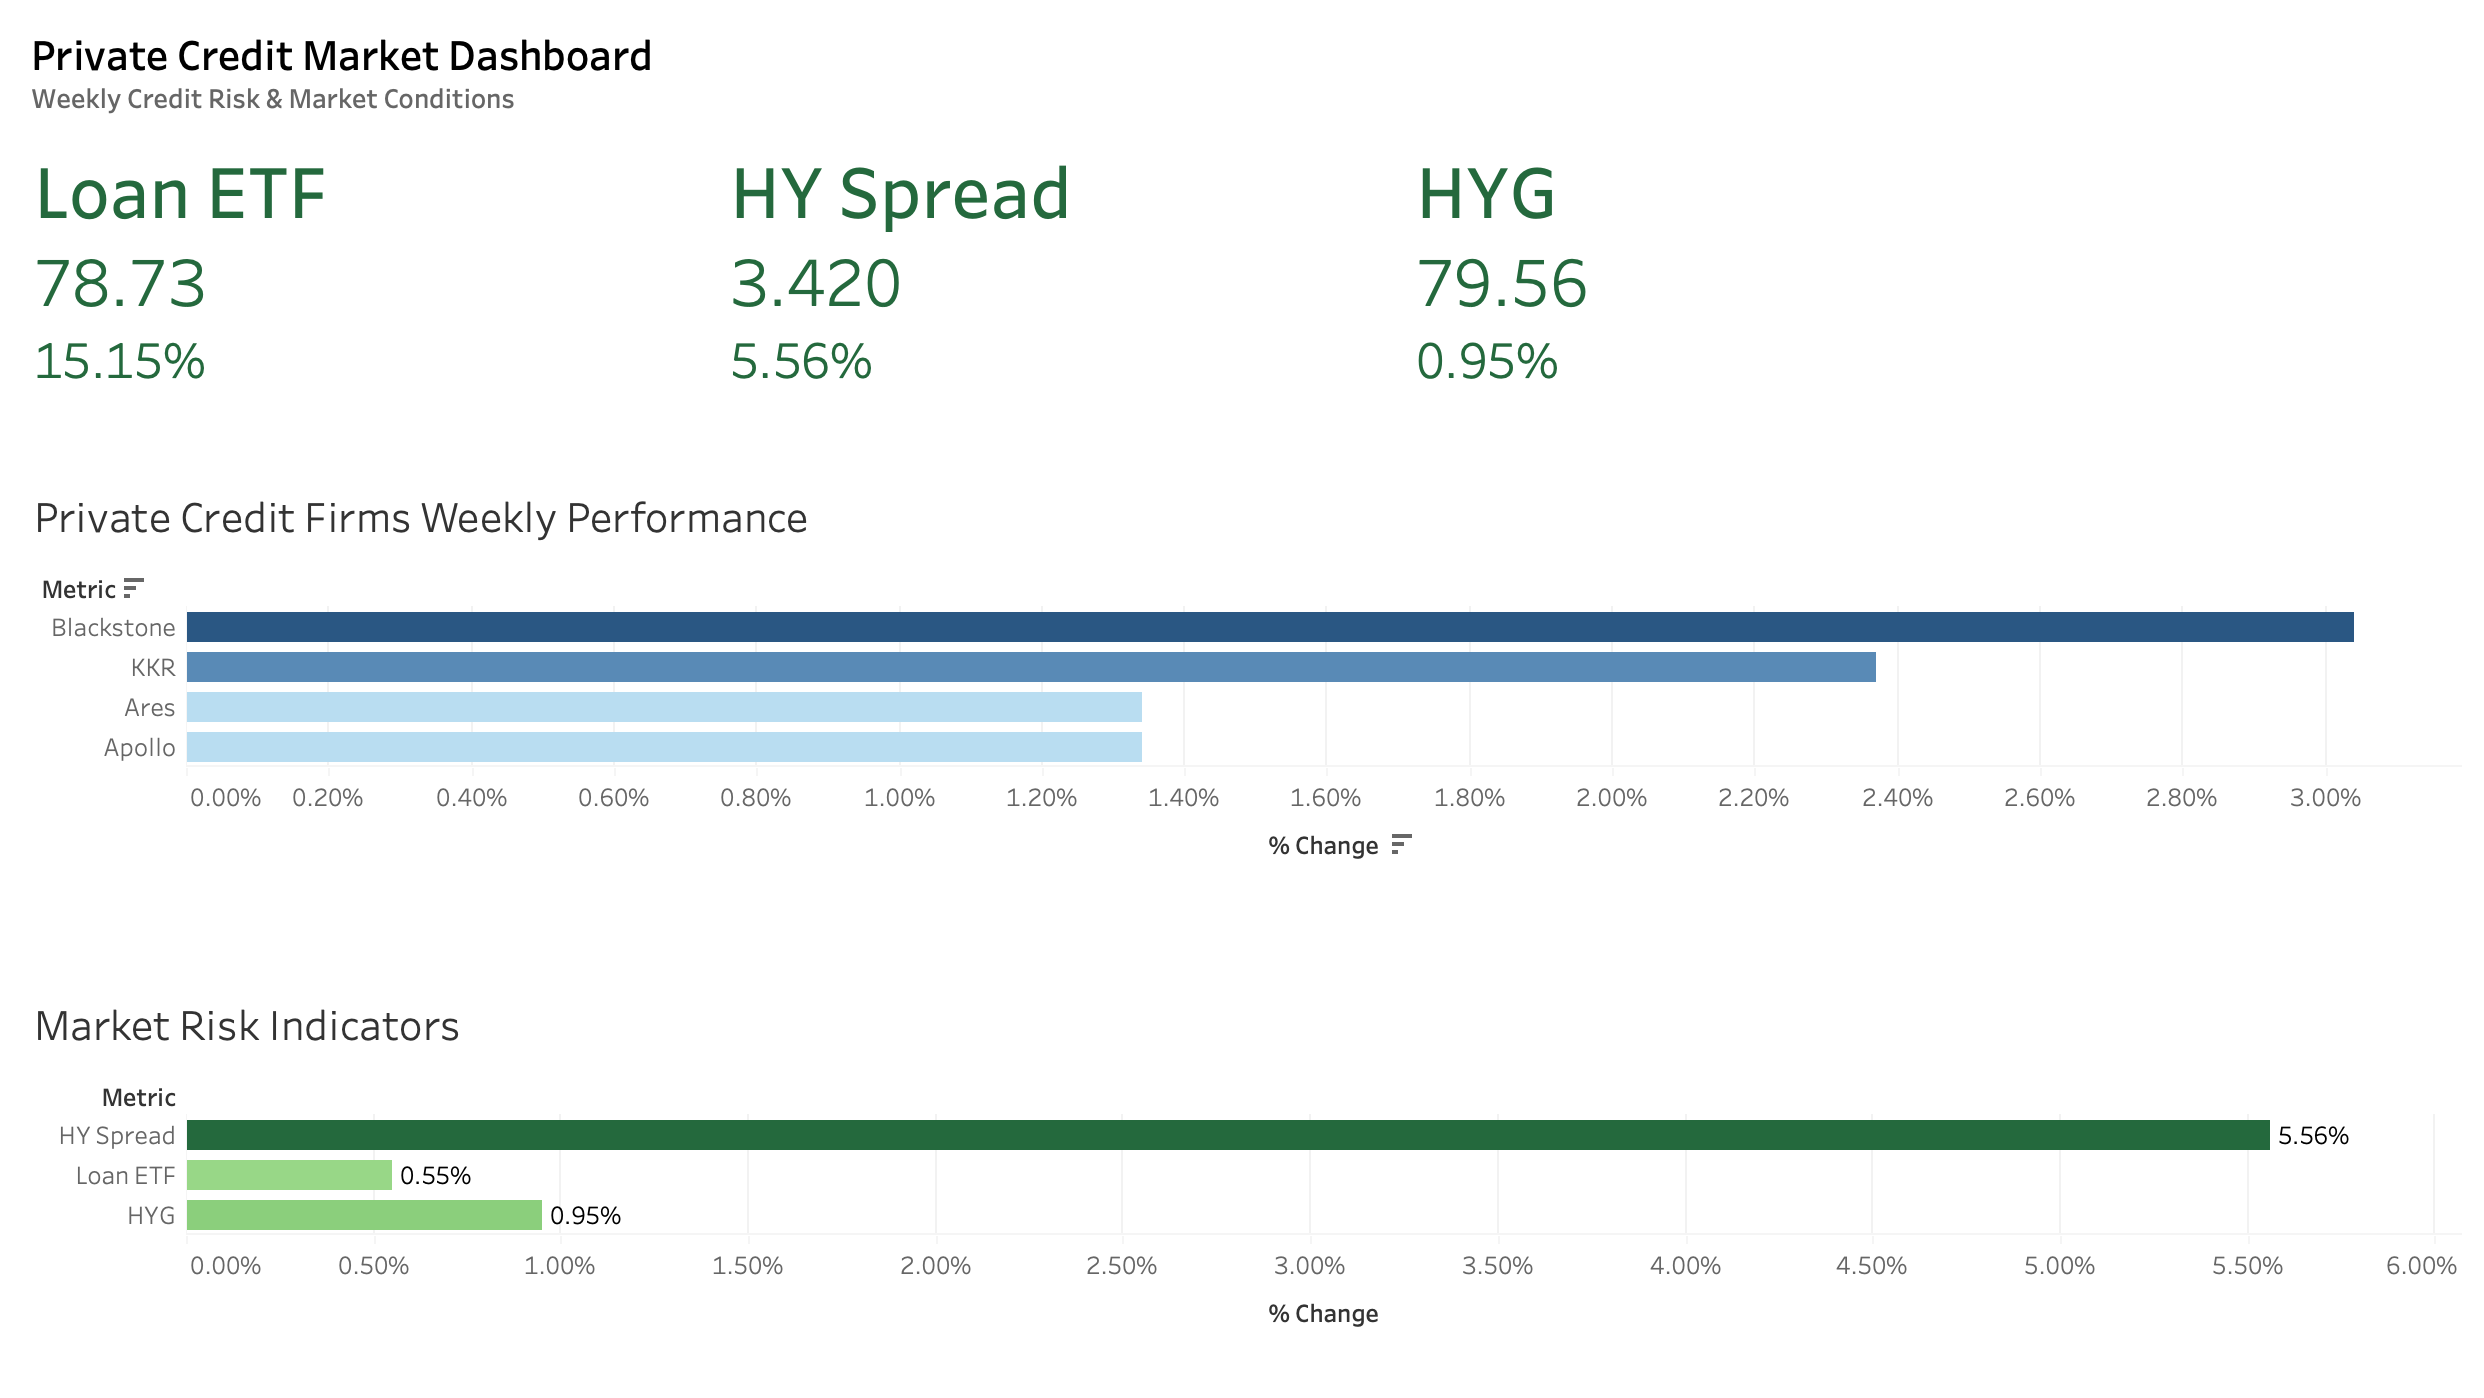

The page's visual inventory and layout, read from the dashboard file:
{"tool":"tableau","page":{"name":"Dashboard 1","canvas":[1000,1000],"units":"permille","ordinal":0},"visuals":[{"type":"text","box":[7.5,11.2,985,84.4]},{"type":"worksheet","title":"Loan ETF KPI","mark":"Text","box":[7.5,95.6,228.2,237.7]},{"type":"worksheet","title":"HY Spread KPI","mark":"Automatic","box":[235.7,95.6,221.7,237.7]},{"type":"worksheet","title":"HYG KPI","mark":"Automatic","rows":["Metric"],"box":[457.4,95.6,385.4,237.7]},{"type":"legend","title":"Private Credit Firms Weekly Performance","param":"[federated.0nhogl407rp07h18qycbm1u5dvmr].[sum:Calculation_3556494926065664:qk]","box":[842.9,95.6,149.7,91.4]},{"type":"worksheet","title":"Private Credit Firms Weekly Performance","mark":"Bar","rows":["Metric"],"cols":["Calculation_3556494926065664"],"box":[7.5,333.4,835.4,357.2]},{"type":"worksheet","title":"Market Risk Indicators","mark":"Automatic","rows":["Metric"],"cols":["Calculation_3556494926065664"],"box":[7.5,690.6,835.4,264.4]}]}

Visuals, with their boxes on the dashboard's canvas, which has no fixed pixel size, in thousandths of its width and height (x1, y1, x2, y2). These are canvas units, not pixel positions in the 2484x1398 screenshot, which may show the page scaled, cropped or inside an application window:
text: l=8, t=11, r=992, b=96
"Loan ETF KPI" worksheet (Text marks): l=8, t=96, r=236, b=333
"HY Spread KPI" worksheet: l=236, t=96, r=457, b=333
"HYG KPI" worksheet: l=457, t=96, r=843, b=333
"Private Credit Firms Weekly Performance" legend: l=843, t=96, r=993, b=187
"Private Credit Firms Weekly Performance" worksheet (Bar marks): l=8, t=333, r=843, b=691
"Market Risk Indicators" worksheet: l=8, t=691, r=843, b=955
